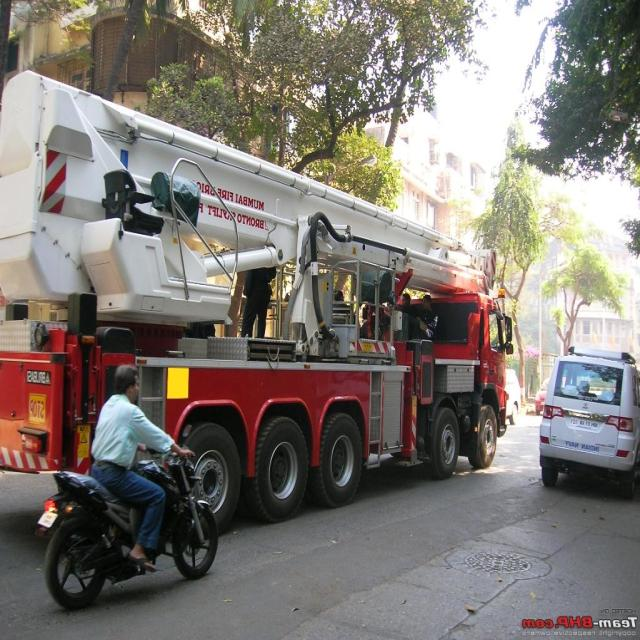car: (540, 348, 640, 497)
emergency: (0, 72, 510, 529)
motorcycle: (38, 366, 218, 610)
